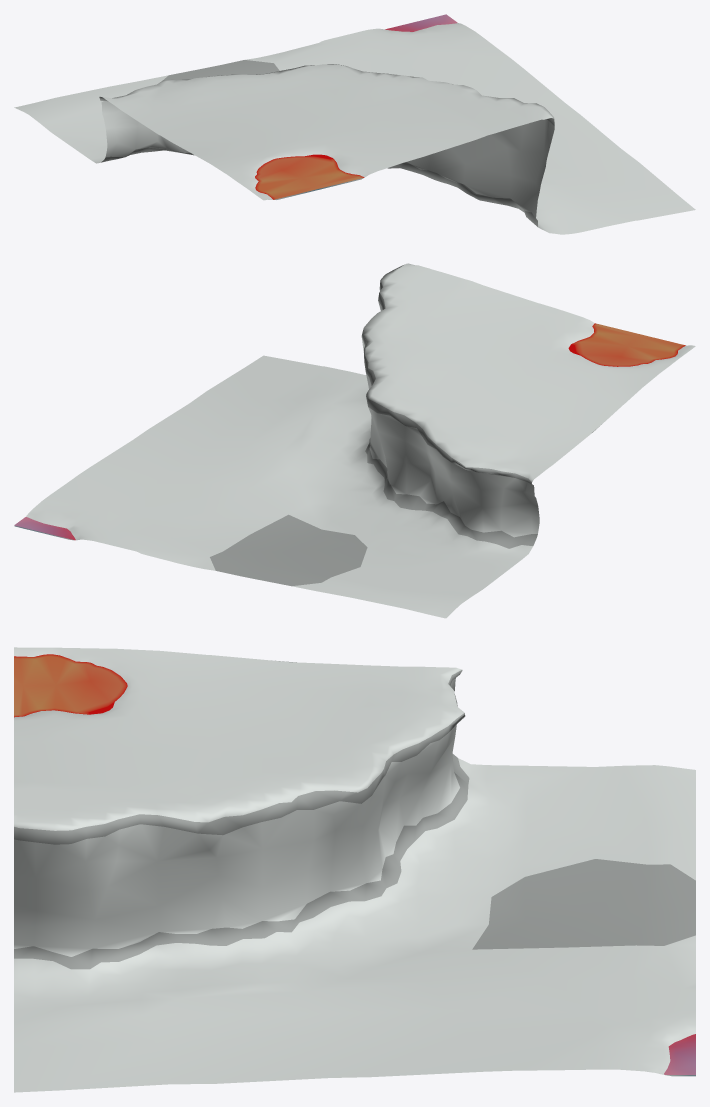
3 renders of one model, top to bottom at view 1: azimuth 30°, elevation 25°; view 2: azimuth 150°, elevation 25°; view 3: azimuth 270°, elevation 25°, orthographic. The views are drawn at different scales.
Visible parts, largest first — view 1: G:\FFXIV-MapTools\exports\r2f1\bg\ex1\01_roc_r2\fld\r2f1\bgp (×5); view 2: G:\FFXIV-MapTools\exports\r2f1\bg\ex1\01_roc_r2\fld\r2f1\bgp (×5); view 3: G:\FFXIV-MapTools\exports\r2f1\bg\ex1\01_roc_r2\fld\r2f1\bgp (×5).
Boxes of the visible parts, <box> form: G:\FFXIV-MapTools\exports\r2f1\bg\ex1\01_roc_r2\fld\r2f1\bgp (×5): <box>14,14,695,234</box>; G:\FFXIV-MapTools\exports\r2f1\bg\ex1\01_roc_r2\fld\r2f1\bgp (×5): <box>14,263,695,618</box>; G:\FFXIV-MapTools\exports\r2f1\bg\ex1\01_roc_r2\fld\r2f1\bgp (×5): <box>14,647,695,1092</box>.
Bounding box in the file's own units: 128 × 36.19 × 128.
